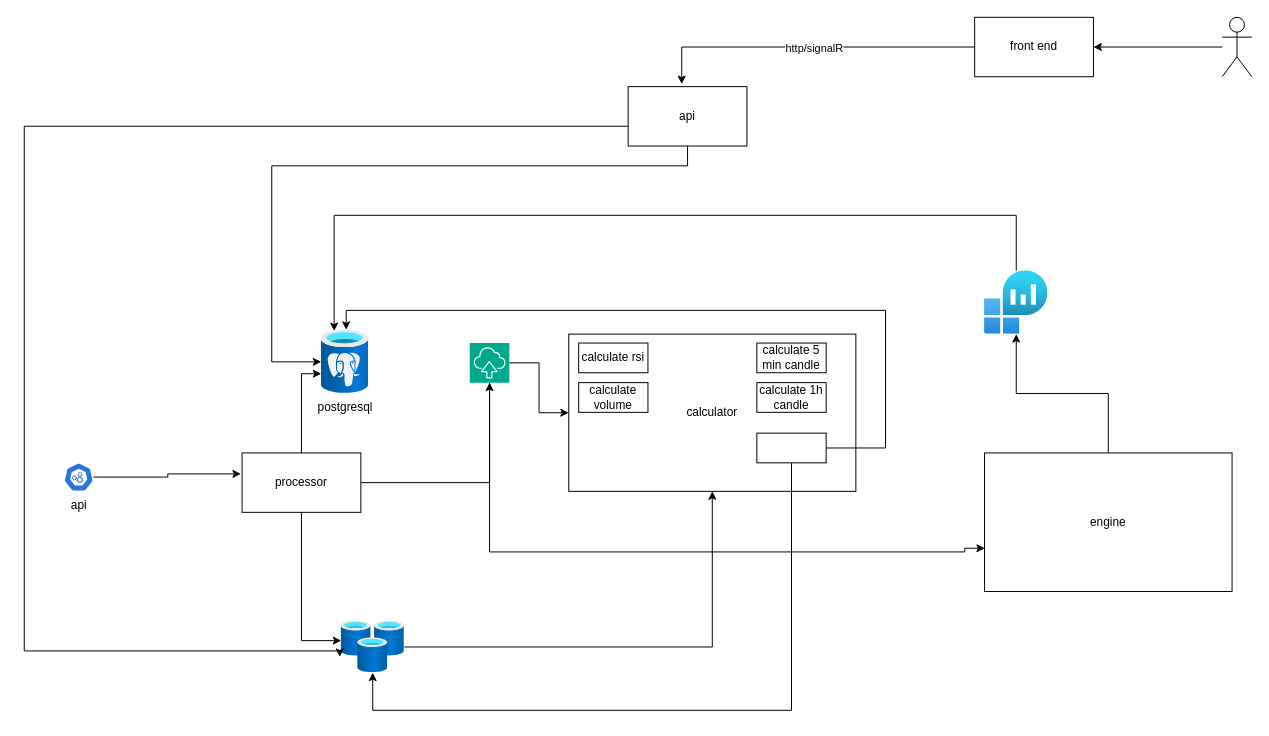
The diagram is 1269 pixels wide and 736 high, and some of its shapes have lost their labels. The shapes that lost their labels are listed below. From the top down, each one's centre as x and y in pixels, then its label:
At (1236,46): "Actor".
At (1015,302): "marten".
At (489,362): "masstranzit".
At (791,447): "calculate xh candle".
At (372,646): "redis cache".
